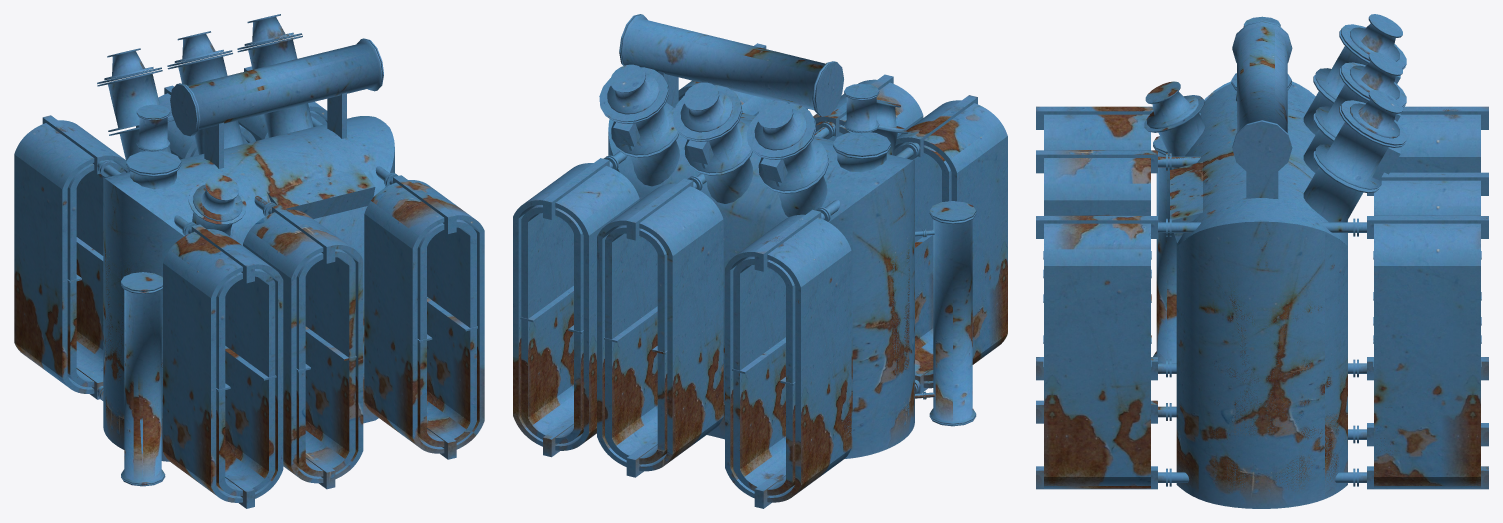
The model's file is robot_.FBX.
3 views of the same model, side by side, from view 1: azimuth 30°, elevation 25°; view 2: azimuth 150°, elevation 25°; view 3: azimuth 270°, elevation 25° (orthographic). The views are drawn at different scales.
Parts seen in each view (by area): view 1: robot_BY04, robot_BY03, robot_BY01, robot_BY06, robot_Arc04, robot_Cylinder07, robot_Cylinder04, robot_Arc02, robot_Cylinder19, robot_L-Ext01, robot_cylinder20, robot_Box12 (+6 smaller); view 2: robot_BY07, robot_BY01, robot_BY05, robot_Cylinder07, robot_Arc02, robot_BY03, robot_Cylinder04, robot_Cylinder19, robot_Arc04, robot_cylinder20, robot_Box01, robot_Box13 (+4 smaller); view 3: robot_Arc03, robot_BY04, robot_BY05, robot_Cylinder07, robot_Arc04, robot_Cylinder04, robot_BY06, robot_BY01, robot_BY07, robot_BY03, robot_Cylinder19, robot_L-Ext01 (+10 smaller).
Part boxes in pixels (<box>): robot_BY04: <box>364,180,484,453</box>; robot_BY03: <box>163,229,283,502</box>; robot_BY01: <box>14,120,128,393</box>; robot_BY06: <box>243,209,363,483</box>; robot_Arc04: <box>105,116,394,423</box>; robot_Cylinder07: <box>97,14,313,235</box>; robot_Cylinder04: <box>170,38,383,136</box>; robot_Arc02: <box>103,177,184,461</box>; robot_Cylinder19: <box>121,272,165,486</box>; robot_L-Ext01: <box>266,168,375,218</box>; robot_cylinder20: <box>126,104,181,189</box>; robot_Box12: <box>272,205,356,489</box>; robot_BY07: <box>597,183,723,471</box>; robot_BY01: <box>725,214,851,502</box>; robot_BY05: <box>513,163,639,450</box>; robot_Cylinder07: <box>599,64,907,217</box>; robot_Arc02: <box>829,159,914,458</box>; robot_BY03: <box>893,100,1007,388</box>; robot_Cylinder04: <box>619,14,843,116</box>; robot_Cylinder19: <box>929,201,976,426</box>; robot_Arc04: <box>608,118,912,439</box>; robot_cylinder20: <box>833,83,890,172</box>; robot_Box01: <box>732,209,821,508</box>; robot_Box13: <box>604,178,693,477</box>; robot_Arc03: <box>1176,221,1347,508</box>; robot_BY04: <box>1044,215,1150,488</box>; robot_BY05: <box>1374,215,1480,488</box>; robot_Cylinder07: <box>1144,14,1406,222</box>; robot_Arc04: <box>1176,83,1347,245</box>; robot_Cylinder04: <box>1232,20,1292,175</box>; robot_BY06: <box>1044,150,1150,215</box>; robot_BY01: <box>1390,114,1480,172</box>; robot_BY07: <box>1374,180,1480,215</box>; robot_BY03: <box>1044,114,1150,149</box>; robot_Cylinder19: <box>1153,136,1176,363</box>; robot_L-Ext01: <box>1170,161,1202,242</box>.
Size of the model in its own units: 0.0457 by 0.0501 by 0.0537.
